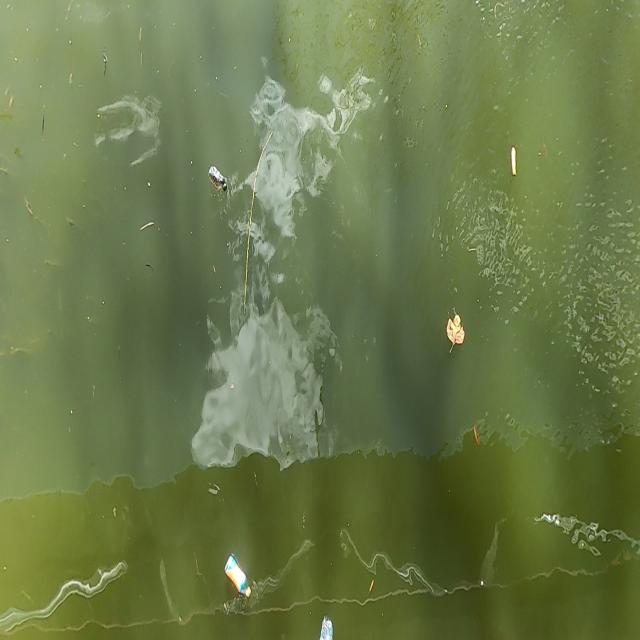Bouteille plastique: (223, 546, 254, 612), (204, 153, 233, 203)
